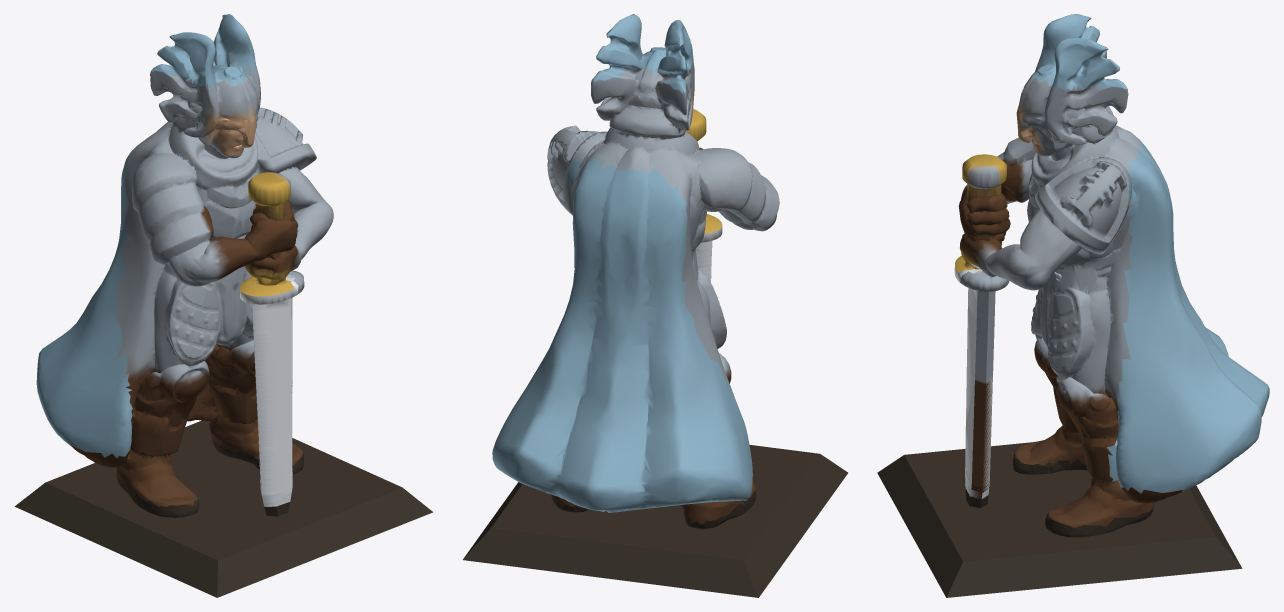
Rendered from paladin.glb.
The picture shows the model from 3 angles, left to right: view 1: azimuth 30°, elevation 25°; view 2: azimuth 150°, elevation 25°; view 3: azimuth 270°, elevation 25°; orthographic projection. The views are drawn at different scales.
Visible parts, largest first — view 1: paint, base, cloth, blade; view 2: cloth, base, paint, blade; view 3: paint, cloth, base, blade.
Boxes of the visible parts, x1=… form: paint: x1=70, y1=61, x2=333, y2=507; base: x1=15, y1=420, x2=432, y2=597; cloth: x1=36, y1=14, x2=257, y2=458; blade: x1=240, y1=275, x2=298, y2=506; cloth: x1=492, y1=14, x2=752, y2=512; base: x1=463, y1=445, x2=847, y2=597; paint: x1=547, y1=60, x2=779, y2=524; blade: x1=695, y1=225, x2=722, y2=282; paint: x1=955, y1=51, x2=1182, y2=527; cloth: x1=1031, y1=14, x2=1269, y2=493; base: x1=877, y1=442, x2=1242, y2=597; blade: x1=954, y1=263, x2=1009, y2=498.
Size of the model in its own units: 0.96 by 1.43 by 1.03.
